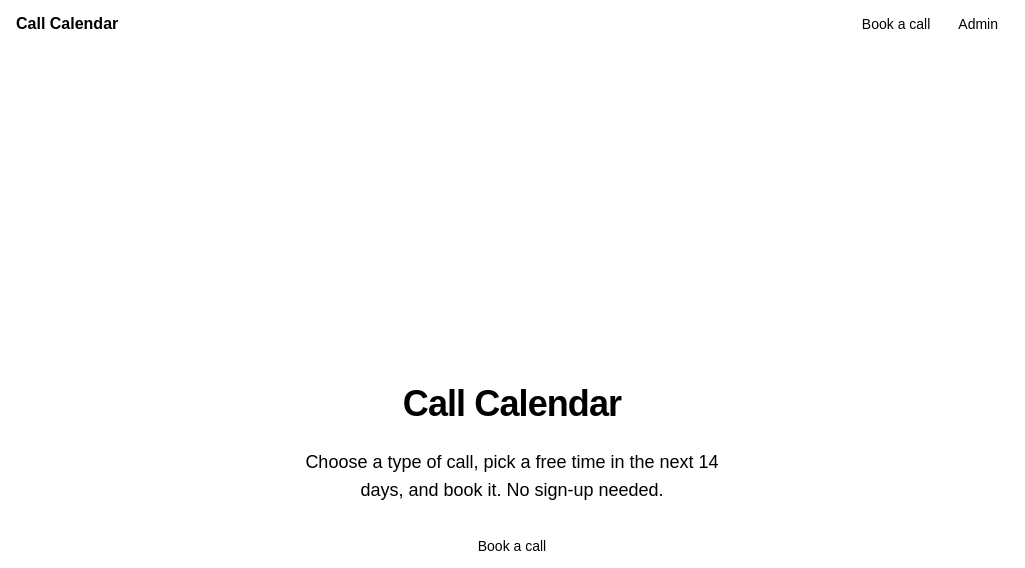
Test: navbar › opens the admin page and marks its link as current
The image size is (1025, 568).
Click the link "Admin": (978, 24) left=958, top=16, right=998, bottom=32
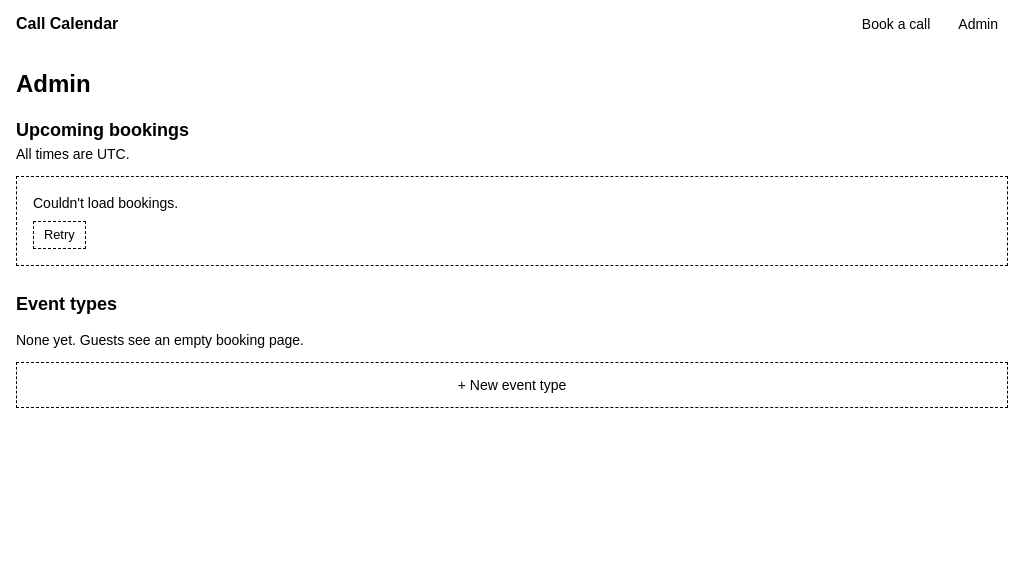
Now the heading "Admin" is shown, box left=16, top=70, right=91, bottom=97
